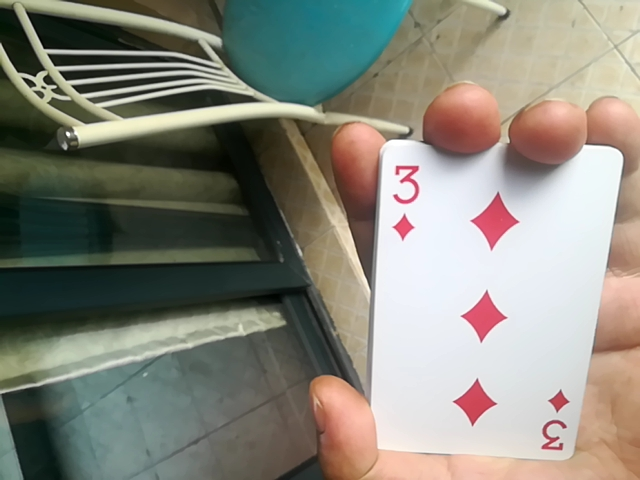fk 3: (352, 140, 616, 459)
